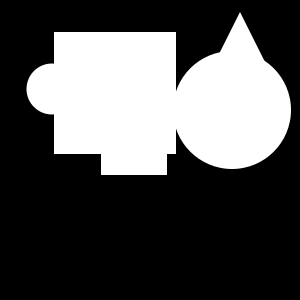circle: (54, 32, 176, 154), (101, 109, 167, 175)
rectangle: (173, 51, 291, 169), (26, 64, 78, 115)
triangle: (200, 12, 280, 92)
